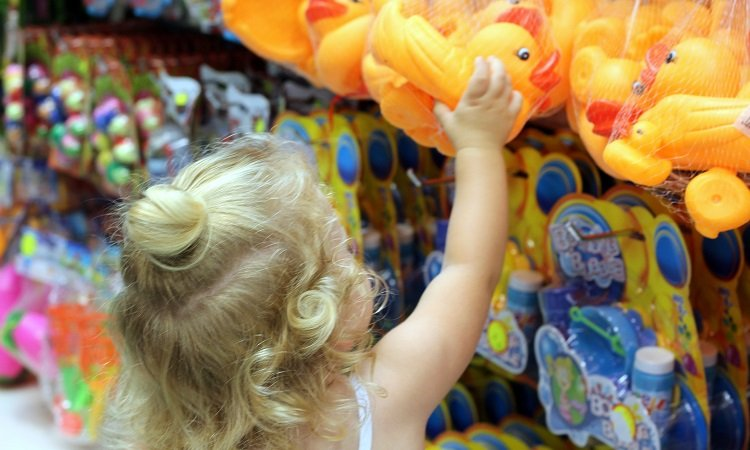Not_Face: (154, 158, 378, 354)
